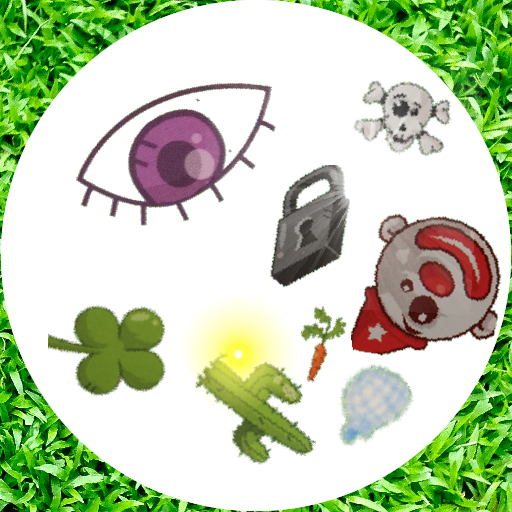cactus_icon: (186, 333, 330, 477)
carrot_icon: (286, 306, 364, 384)
cloverleaf_icon: (48, 275, 177, 404)
clown_icon: (345, 204, 503, 362)
eye_icon: (68, 37, 288, 257)
igloo_icon: (326, 364, 416, 454)
lock_icon: (246, 165, 369, 288)
skull_icon: (353, 63, 461, 171)
